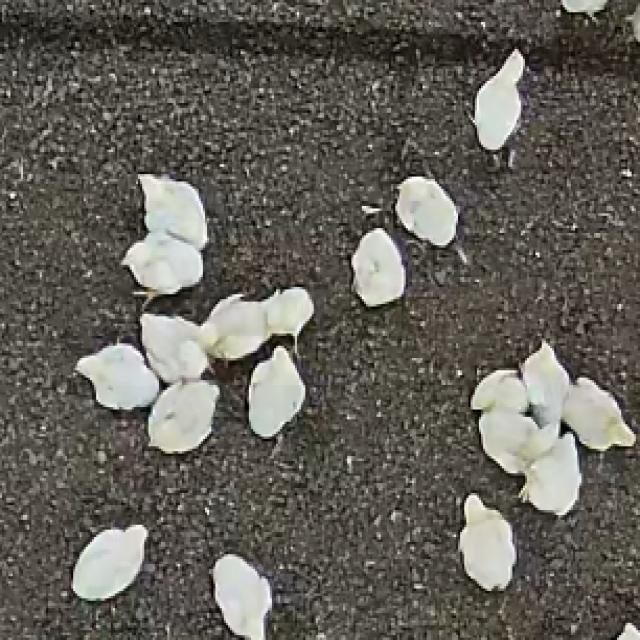broiler: (75, 343, 159, 410), (458, 493, 515, 589), (561, 378, 634, 449), (247, 346, 303, 436), (73, 525, 142, 598), (148, 380, 218, 451), (140, 174, 207, 248), (479, 407, 556, 471), (473, 49, 523, 147), (121, 233, 199, 294), (521, 434, 579, 515), (213, 554, 268, 638), (142, 314, 207, 380), (521, 341, 569, 427), (199, 292, 261, 358), (351, 228, 404, 304), (397, 177, 456, 245), (261, 287, 312, 343), (471, 370, 527, 412)
